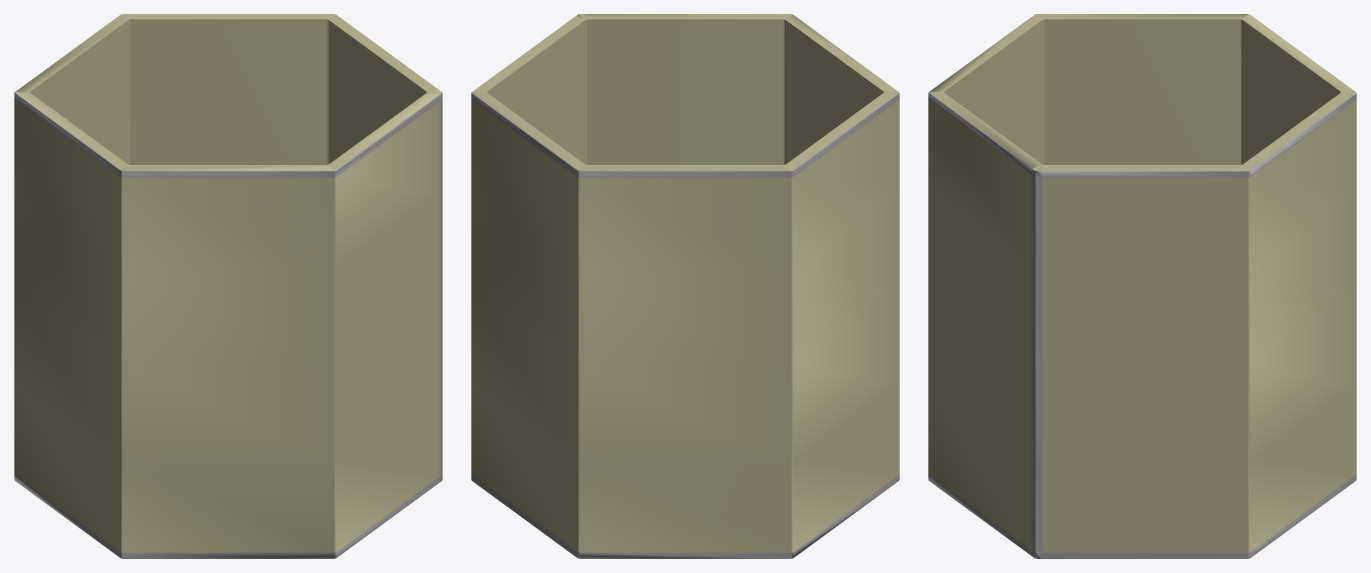
The model's file is env_verticalpipe_outershell.fbx.
The picture shows the model from 3 angles, left to right: view 1: azimuth 30°, elevation 25°; view 2: azimuth 150°, elevation 25°; view 3: azimuth 270°, elevation 25°; orthographic projection.
Parts seen in each view (by area): view 1: Cylinder.009; view 2: Cylinder.009; view 3: Cylinder.009.
Boxes of the visible parts, left/top/right/bottom form: Cylinder.009: left=14, top=14, right=442, bottom=558; Cylinder.009: left=471, top=14, right=899, bottom=558; Cylinder.009: left=928, top=14, right=1356, bottom=558.
Size of the model in its own units: 402 by 463 by 462.
